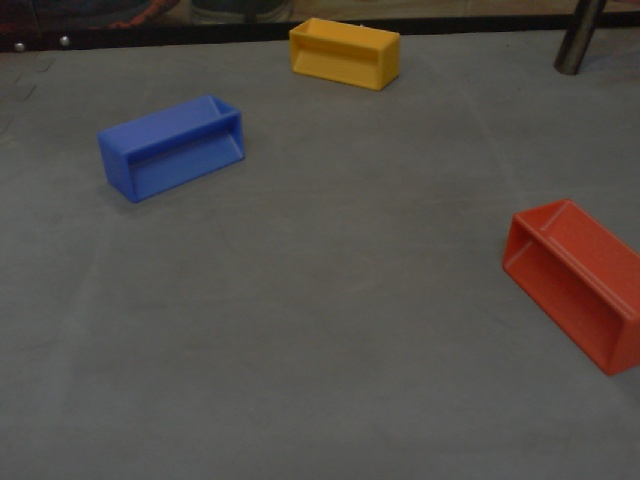BlueSample: (95, 93, 246, 206)
RedSample: (501, 193, 640, 377)
YellowSample: (287, 16, 402, 93)
